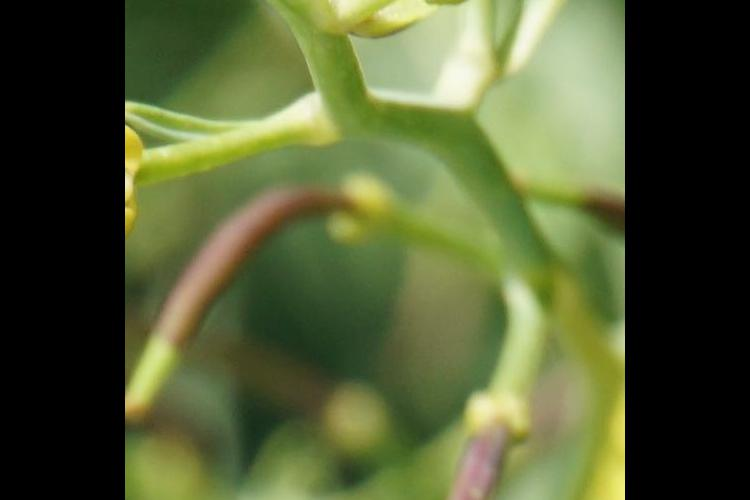pod: (127, 186, 349, 418), (384, 390, 528, 500)
